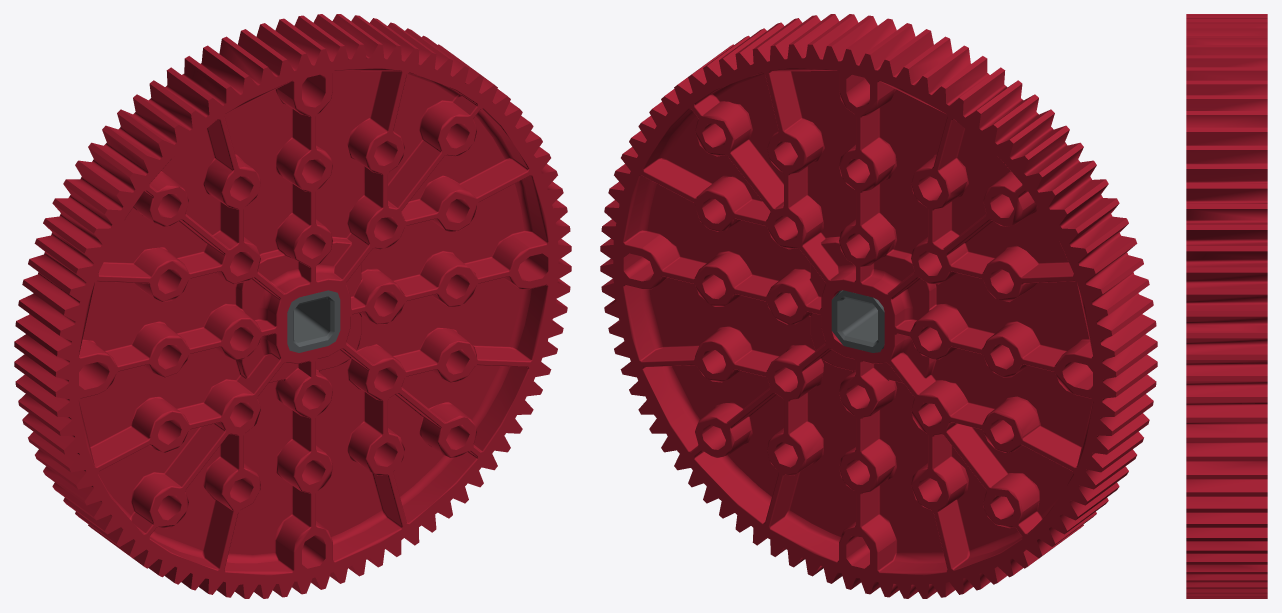
The picture shows the model from 3 angles, left to right: view 1: azimuth 30°, elevation 25°; view 2: azimuth 150°, elevation 25°; view 3: azimuth 270°, elevation 25°; orthographic projection.
Visible parts, largest first — view 1: 276-7749-001_OVERMOLD Rev3_84T 24DP Gear Rev1, 276-7573-002 Rev7; view 2: 276-7749-001_OVERMOLD Rev3_84T 24DP Gear Rev1, 276-7573-002 Rev7; view 3: 276-7749-001_OVERMOLD Rev3_84T 24DP Gear Rev1.
Boxes of the visible parts, x1=… form: 276-7749-001_OVERMOLD Rev3_84T 24DP Gear Rev1: x1=14, y1=14, x2=571, y2=598; 276-7573-002 Rev7: x1=287, y1=290, x2=340, y2=352; 276-7749-001_OVERMOLD Rev3_84T 24DP Gear Rev1: x1=600, y1=14, x2=1157, y2=598; 276-7573-002 Rev7: x1=831, y1=290, x2=884, y2=352; 276-7749-001_OVERMOLD Rev3_84T 24DP Gear Rev1: x1=1186, y1=14, x2=1267, y2=598.
Size of the model in its own units: 90.98 by 90.98 by 12.7.
